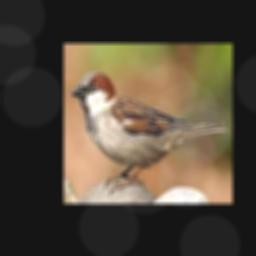Sparrow: (71, 71, 230, 193)
